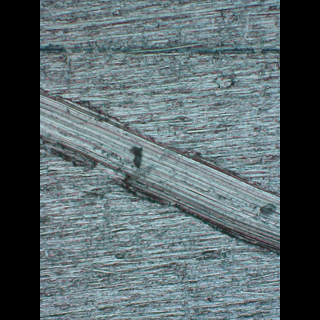d: (40, 81, 279, 260)
